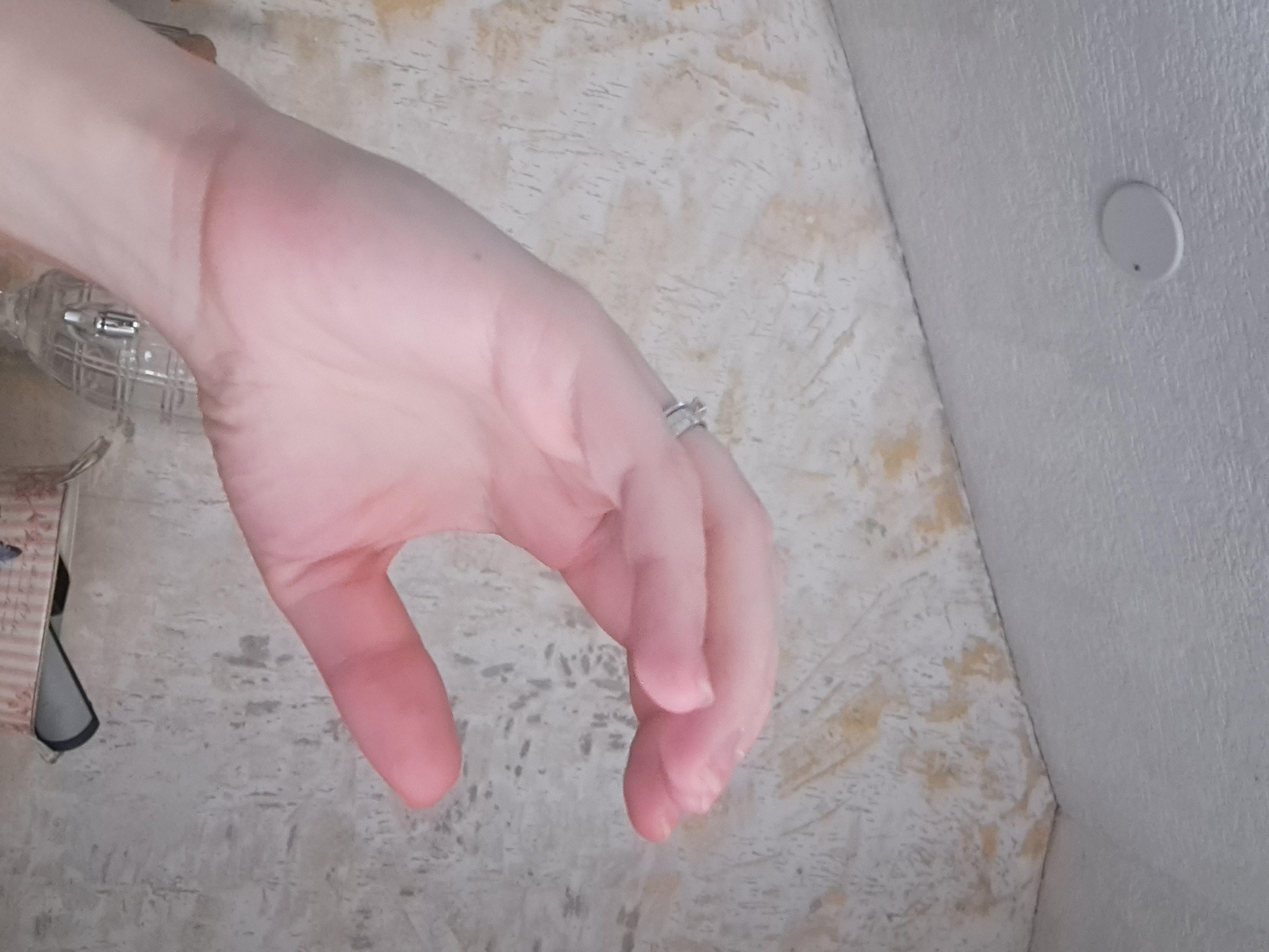C: (119, 341, 1146, 811)
